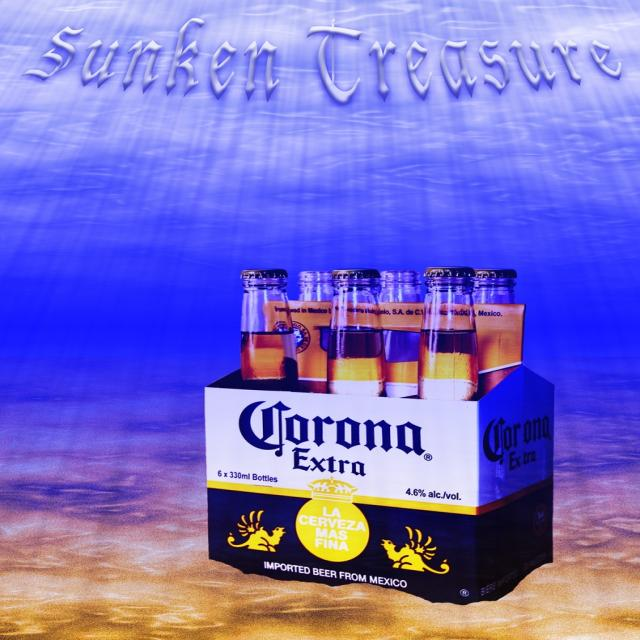corona: (217, 396, 468, 587), (479, 411, 555, 472)
